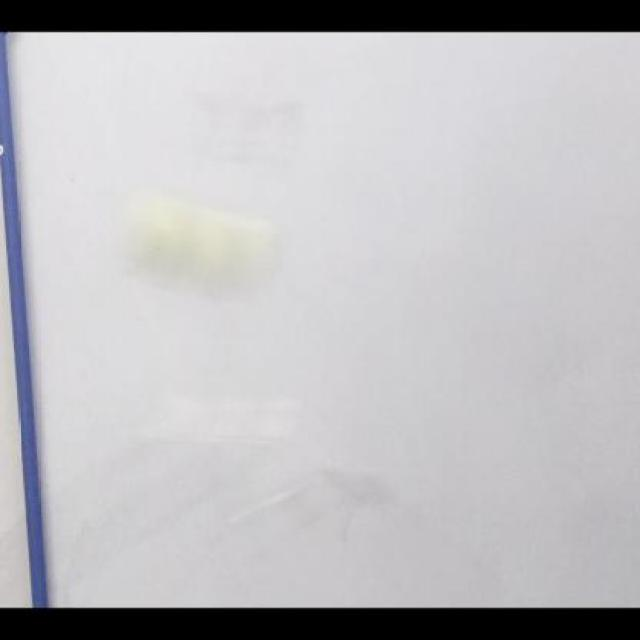baseball: (124, 190, 281, 302)
